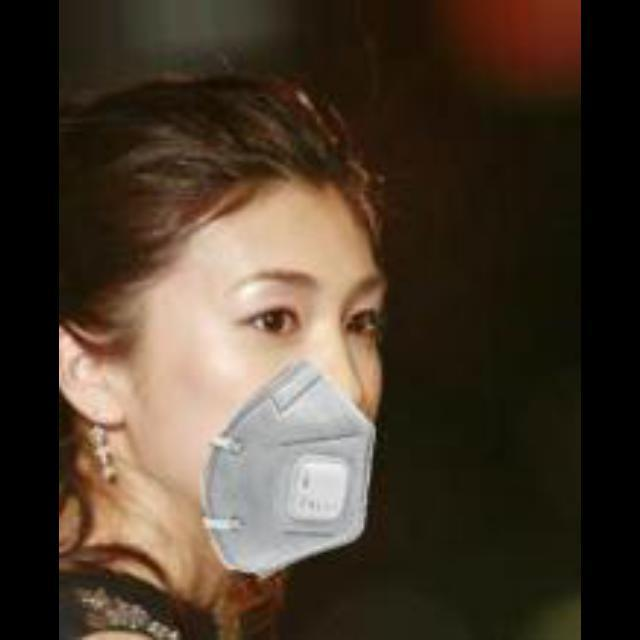suspicion: (116, 147, 428, 558)
